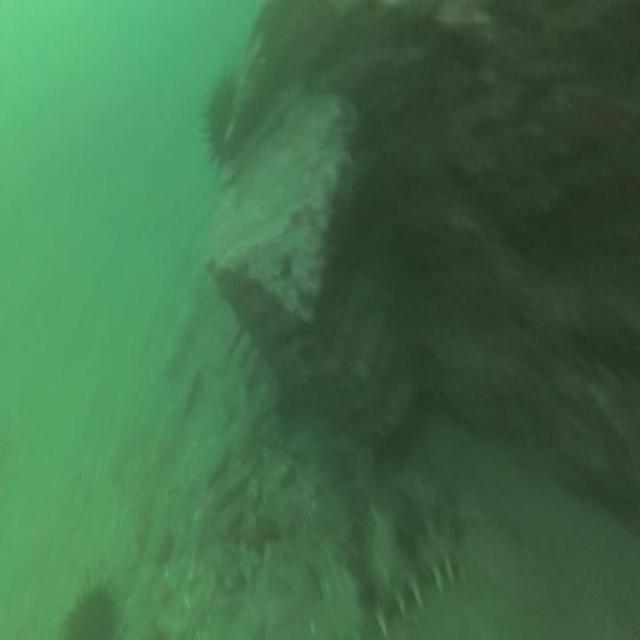echinus: (198, 68, 245, 171), (57, 573, 124, 640)
holothurian: (362, 498, 466, 637), (298, 535, 364, 640)
